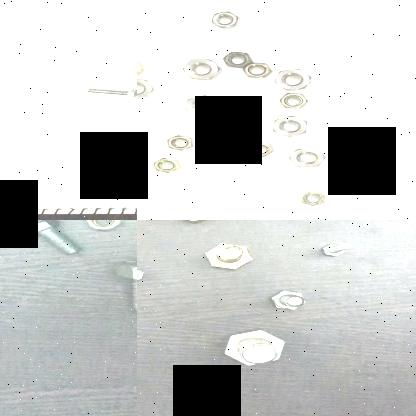Bolts: (214, 328, 294, 366), (15, 220, 85, 257), (192, 241, 260, 271), (115, 256, 137, 319), (267, 288, 309, 312), (80, 84, 137, 101), (316, 240, 368, 258), (137, 263, 151, 285)
NUTS: (269, 64, 312, 92), (179, 56, 223, 82), (270, 112, 310, 140), (182, 92, 218, 120), (284, 145, 326, 169), (198, 126, 247, 146), (276, 88, 312, 112), (206, 10, 242, 30), (244, 136, 274, 160), (296, 188, 332, 208), (79, 220, 123, 236), (220, 50, 255, 70), (242, 58, 272, 80), (163, 134, 197, 152), (151, 156, 185, 174), (137, 74, 156, 100)
